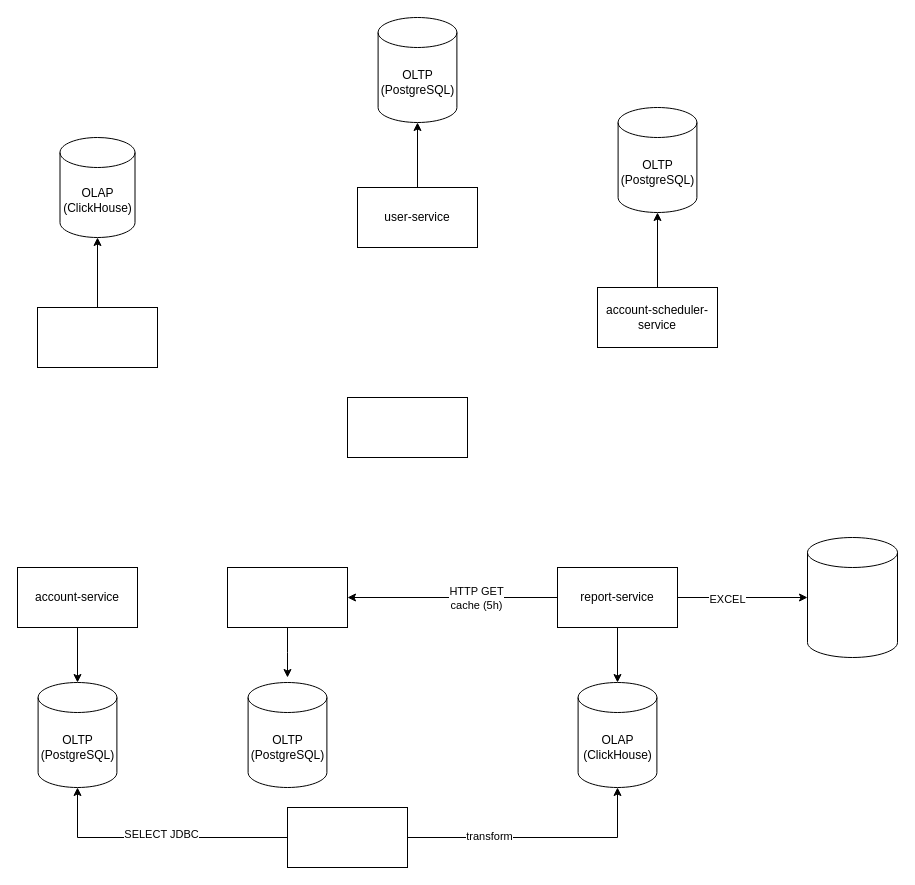
This 915x885 diagram has some shape labels left out. The box of each missing label's shape, as (x1, y1, x2, y2) in pixels:
audit-service: (36, 306, 158, 368)
classifier-service: (226, 566, 348, 628)
Object Storage (S3\FTP): (806, 536, 898, 658)
telegram-service: (346, 396, 468, 458)
transfer-service: (286, 806, 408, 868)
